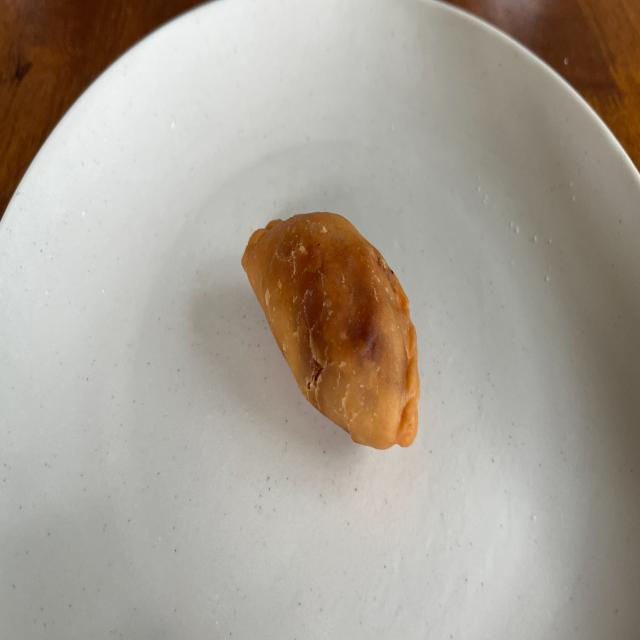karipap: (241, 211, 420, 449)
